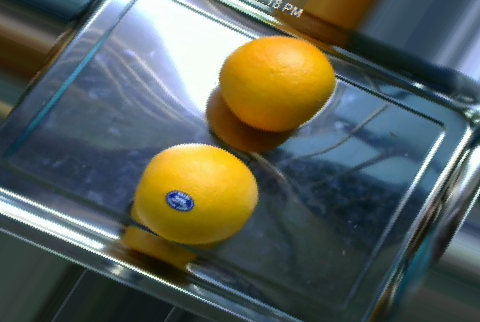Orange: (135, 142, 261, 244), (218, 35, 338, 132)
